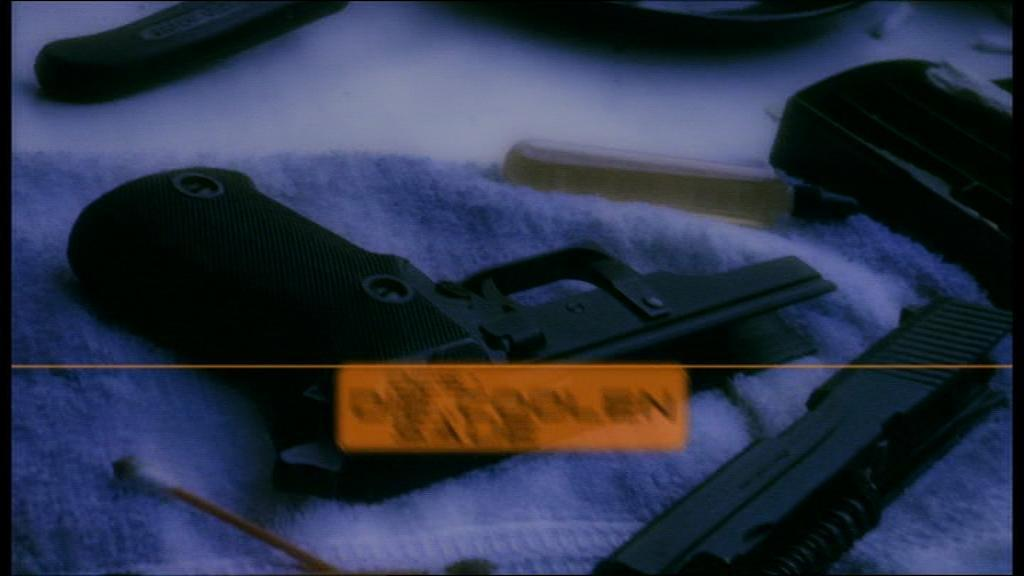gun: (58, 89, 850, 474)
